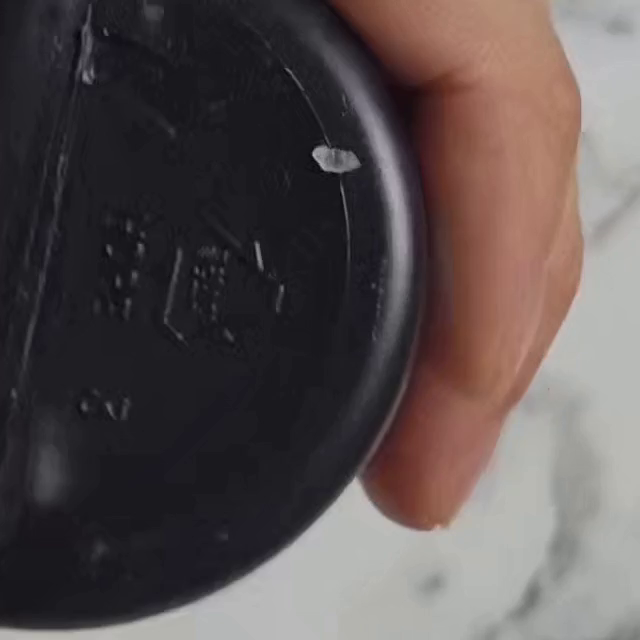Plastic: (152, 218, 282, 355)
